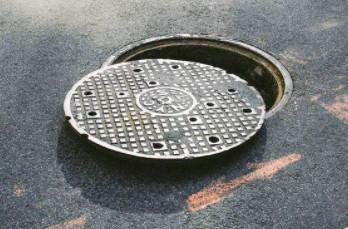wellcover: (67, 25, 302, 167)
